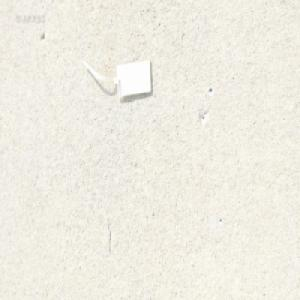LuggageTag: (81, 55, 153, 101)
